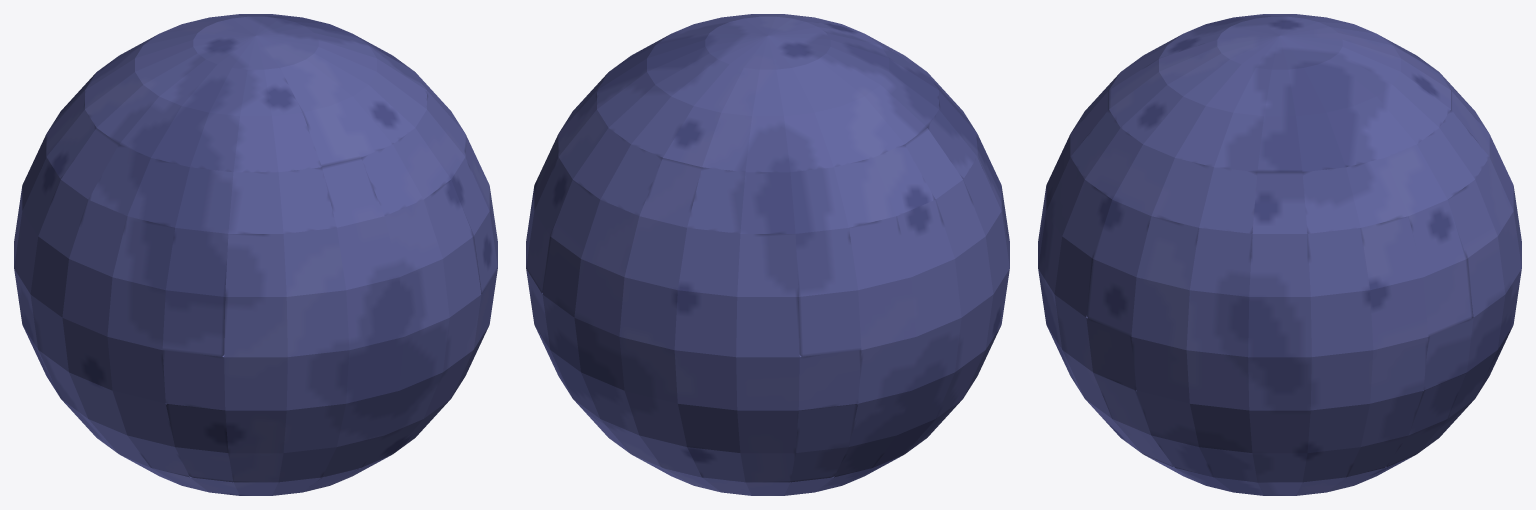
File: smallPlanet.fbx
3 views of the same model, side by side, from view 1: azimuth 30°, elevation 25°; view 2: azimuth 150°, elevation 25°; view 3: azimuth 270°, elevation 25° (orthographic).
Visible parts, largest first — view 1: sphere; view 2: sphere; view 3: sphere.
Boxes of the visible parts, <box> form: sphere: <box>14,14,497,495</box>; sphere: <box>526,14,1009,495</box>; sphere: <box>1038,14,1521,495</box>.
Size of the model in its own units: 400 by 400 by 400.
Materials: 1 (1 with a texture image).
